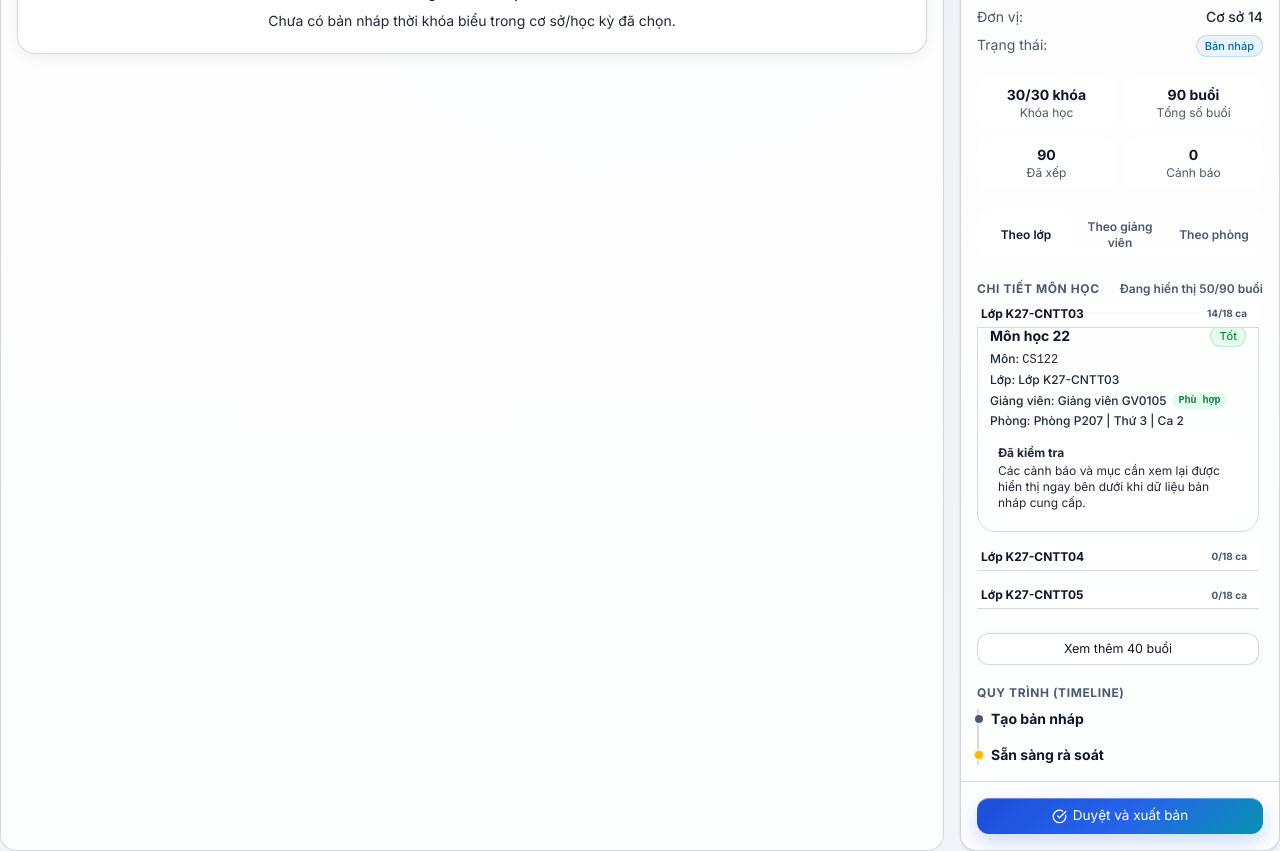
Task 7D-C: Component Test Matrix (35 Mandatory Verification Items) › PendingSchedulesView 90-Item Manifest & Accessible Data › Item 46: Clicking "Xem thêm" reveals all 90 items
(page scrolled)
Click the button with test id "load-more-btn".
click(1118, 649)  # box [977,633,1259,665]
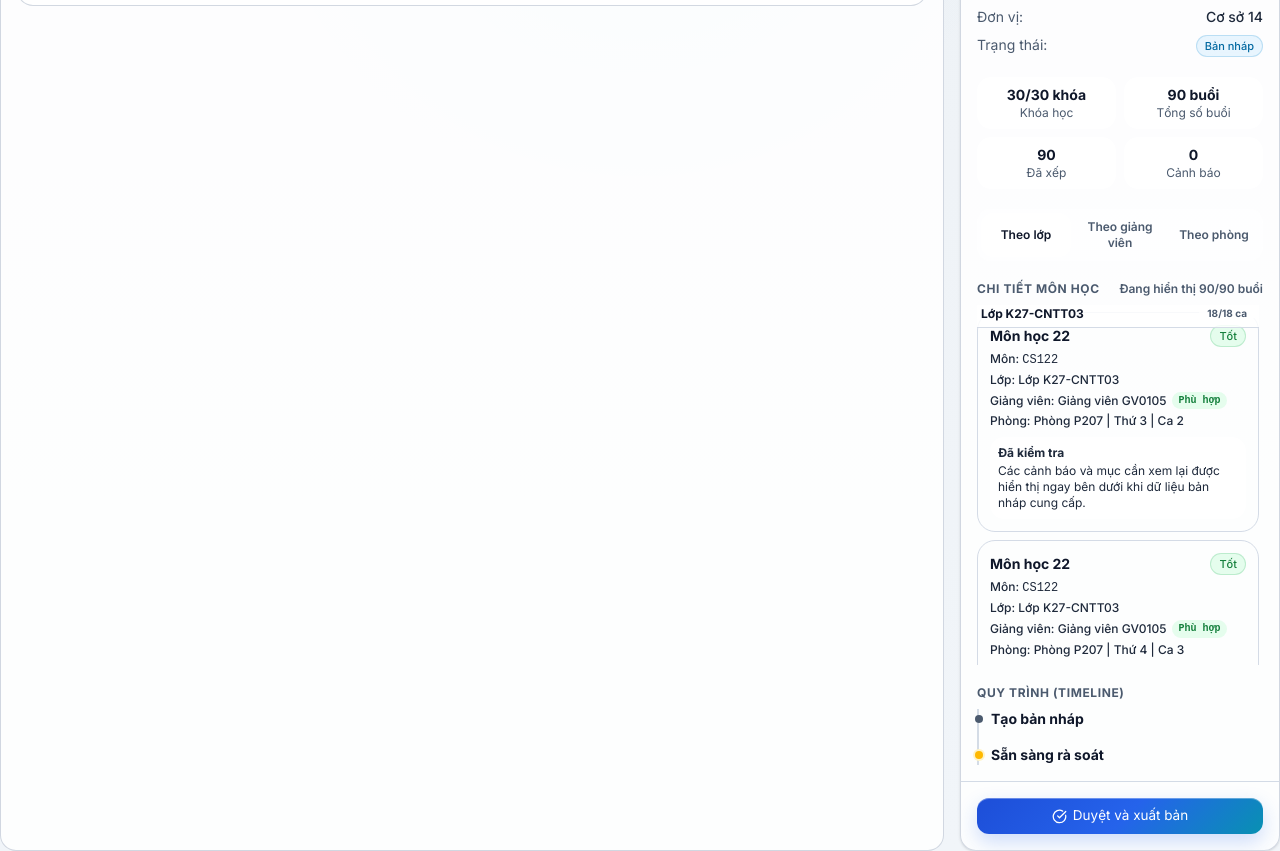
Expected: the text with test id "display-count" shows "90/90", [1120,281,1263,296]
